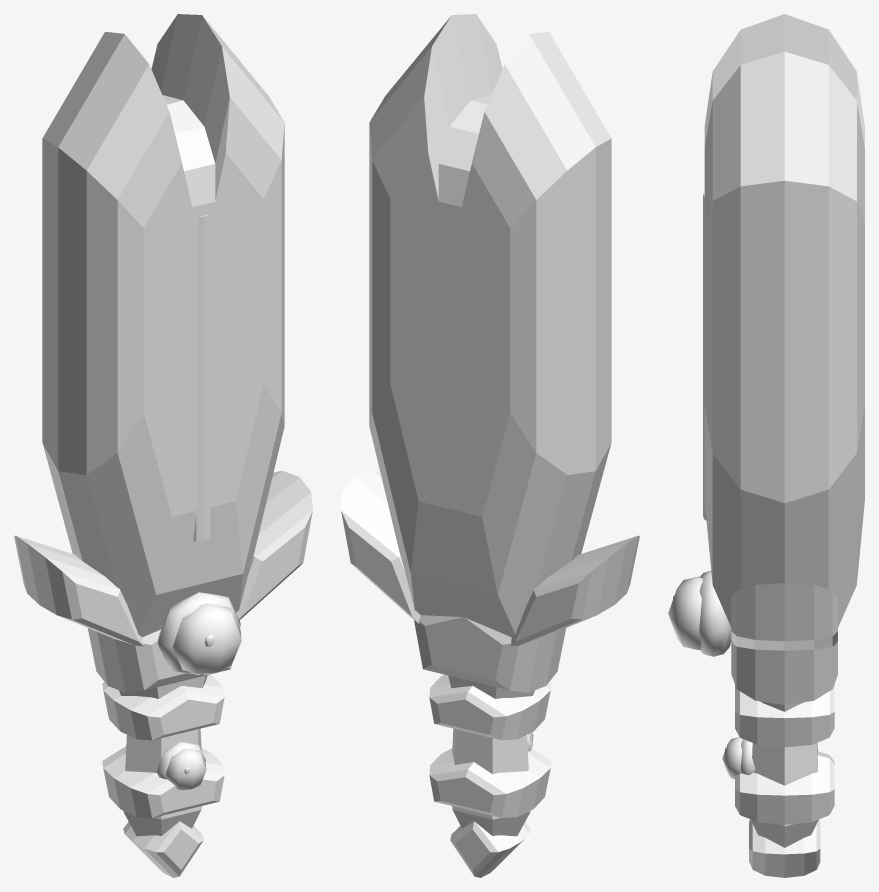
The model's file is sword.obj.
3 renders of one model, left to right at view 1: azimuth 30°, elevation 25°; view 2: azimuth 150°, elevation 25°; view 3: azimuth 270°, elevation 25°, orthographic.
Visible parts, largest first — view 1: head, handle, ornaments; view 2: head, handle, ornaments; view 3: head, handle, ornaments.
Part boxes in pixels (x1,y1,x2,y2): head: (14, 14, 312, 646); handle: (102, 674, 224, 877); ornaments: (87, 592, 241, 692); head: (341, 14, 639, 646); handle: (429, 674, 551, 877); ornaments: (414, 615, 566, 692); head: (703, 14, 864, 650); handle: (722, 684, 834, 877); ornaments: (668, 571, 837, 704).
Bounding box in the file's own units: 0.3667 × 1.09 × 0.2303.
